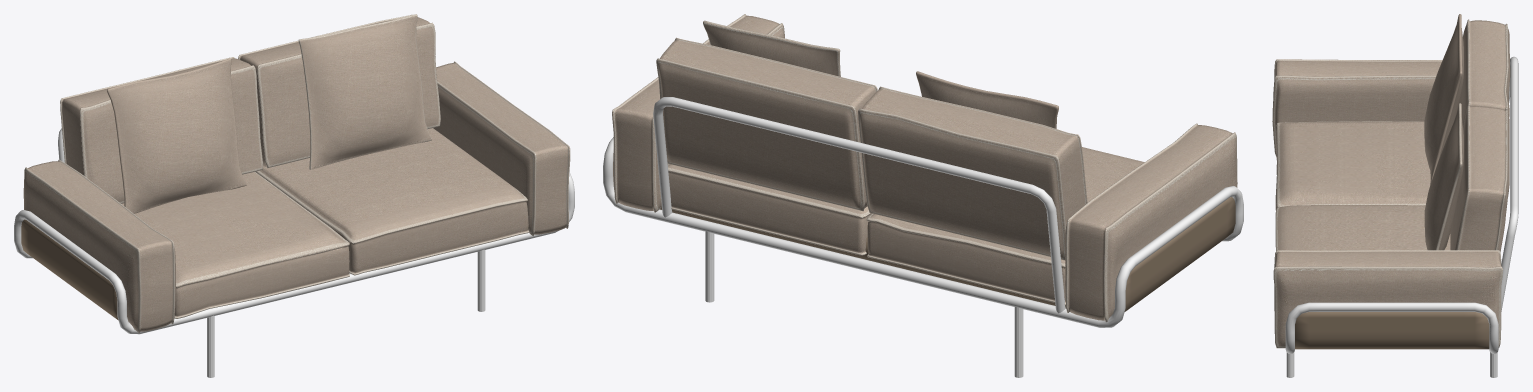
The model's file is sofa_white_beige.glb.
3 renders of one model, left to right at view 1: azimuth 30°, elevation 25°; view 2: azimuth 150°, elevation 25°; view 3: azimuth 270°, elevation 25°, orthographic. The views are drawn at different scales.
Visible parts, largest first — view 1: cushion_base3_Cube.003, cushion_base2_Cube.004, cushion_Cube.007, cushion.001_Cube.006, cushion_base_Cube, cushion_base4_Cube.001, cushion_base6_Cube.002, cushion_base5_Cube.005, structure_Cylinder, cover_Cylinder.001; view 2: cushion_base6_Cube.002, cushion_base5_Cube.005, structure_Cylinder, cushion_base_Cube, cushion_base2_Cube.004, cushion_base3_Cube.003, cushion_base4_Cube.001, cover_Cylinder.001, cushion.001_Cube.006, cushion_Cube.007; view 3: cushion_base4_Cube.001, cushion_base2_Cube.004, cushion_base_Cube, cover_Cylinder.001, cushion_base5_Cube.005, cushion_base3_Cube.003, structure_Cylinder, cushion_base6_Cube.002, cushion.001_Cube.006, cushion_Cube.007.
Boxes of the visible parts, box(x1,y1,x2,y2) form: cushion_base3_Cube.003: box(255, 128, 529, 275); cushion_base2_Cube.004: box(122, 172, 349, 318); cushion_Cube.007: box(107, 58, 246, 213); cushion.001_Cube.006: box(298, 14, 431, 169); cushion_base_Cube: box(23, 159, 175, 332); cushion_base4_Cube.001: box(433, 61, 570, 236); cushion_base6_Cube.002: box(60, 57, 262, 203); cushion_base5_Cube.005: box(238, 14, 440, 167); structure_Cylinder: box(14, 128, 574, 377); cover_Cylinder.001: box(21, 219, 349, 320); cushion_base6_Cube.002: box(858, 86, 1087, 260); cushion_base5_Cube.005: box(656, 37, 877, 211); structure_Cylinder: box(603, 97, 1243, 377); cushion_base_Cube: box(1065, 123, 1237, 322); cushion_base2_Cube.004: box(866, 147, 1144, 305); cushion_base3_Cube.003: box(667, 164, 871, 255); cushion_base4_Cube.001: box(612, 14, 784, 212); cover_Cylinder.001: box(660, 197, 1235, 311); cushion.001_Cube.006: box(703, 20, 840, 76); cushion_Cube.007: box(916, 71, 1058, 128); cushion_base4_Cube.001: box(1273, 250, 1503, 348); cushion_base2_Cube.004: box(1275, 121, 1430, 210); cushion_base_Cube: box(1272, 59, 1442, 157); cover_Cylinder.001: box(1295, 312, 1489, 349); cushion_base5_Cube.005: box(1450, 105, 1509, 251); cushion_base3_Cube.003: box(1275, 205, 1450, 250); structure_Cylinder: box(1285, 56, 1518, 377); cushion_base6_Cube.002: box(1456, 19, 1510, 127); cushion.001_Cube.006: box(1424, 103, 1463, 250); cushion_Cube.007: box(1424, 14, 1463, 184).
Bounding box in the file's own units: 1.74 × 0.8408 × 0.8249.
Materials: 5 (3 with a texture image).
